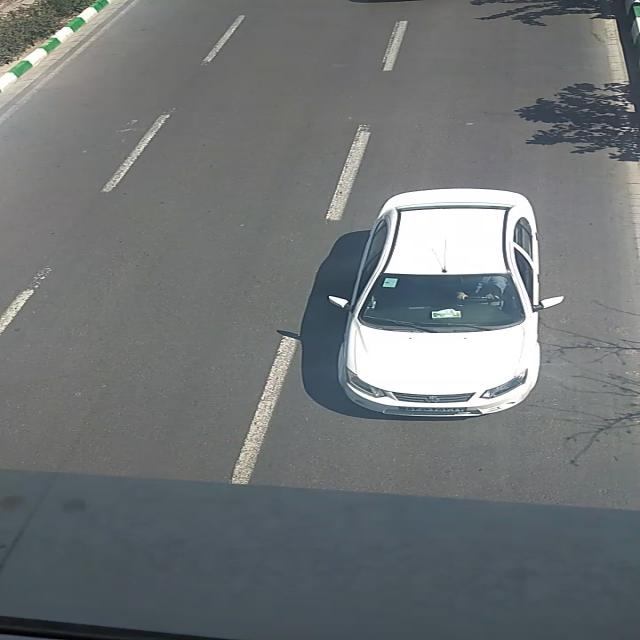car: (326, 189, 566, 419)
